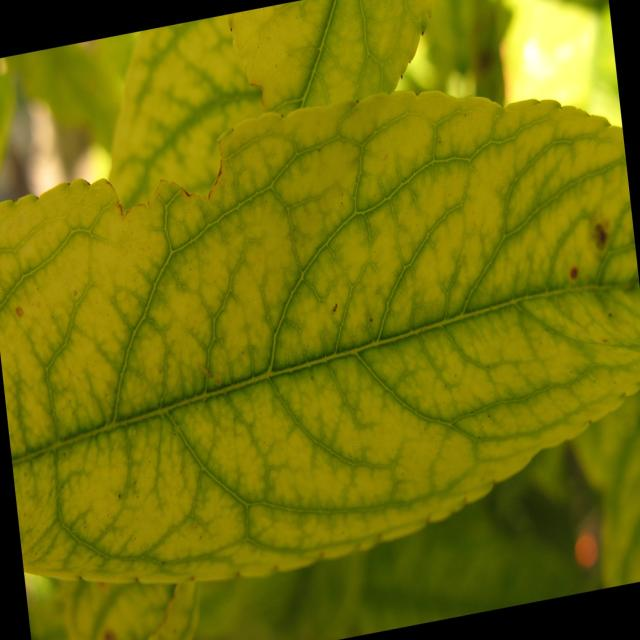Chlorosis: (5, 41, 627, 640)
